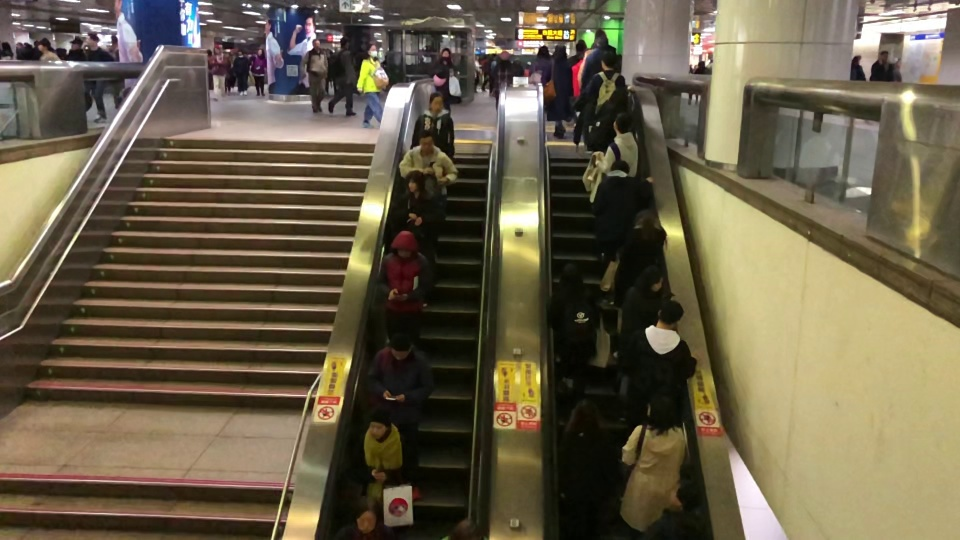person_head: (565, 398, 599, 432), (644, 391, 675, 428), (667, 477, 703, 508), (364, 405, 391, 439), (655, 298, 684, 327), (354, 495, 377, 530), (390, 229, 418, 256), (450, 517, 482, 540), (386, 331, 412, 359), (641, 266, 665, 292), (558, 263, 583, 286), (405, 169, 427, 195), (611, 111, 633, 133), (632, 208, 654, 229), (417, 129, 435, 154), (609, 157, 631, 176), (608, 84, 627, 105), (429, 91, 444, 111), (600, 51, 615, 71), (85, 32, 99, 47), (554, 45, 567, 60), (366, 42, 378, 58), (69, 36, 83, 48), (440, 47, 451, 62), (38, 40, 51, 52), (339, 34, 350, 48), (596, 36, 608, 48), (497, 50, 510, 61), (537, 45, 549, 56), (1, 40, 11, 52), (879, 50, 887, 64), (576, 41, 585, 53), (851, 54, 861, 64), (311, 38, 320, 48), (111, 34, 117, 48), (213, 44, 221, 54), (257, 48, 264, 56), (237, 48, 244, 56), (698, 59, 705, 67), (709, 54, 713, 61)
person_vbox: (366, 330, 434, 505), (618, 391, 686, 533), (591, 158, 653, 307), (547, 263, 598, 439), (559, 397, 623, 536), (611, 207, 667, 362), (397, 129, 458, 262), (614, 266, 665, 421), (626, 298, 698, 399), (349, 404, 415, 513), (392, 170, 444, 308), (376, 228, 433, 344), (645, 476, 703, 540), (585, 84, 635, 151), (410, 91, 455, 160), (356, 42, 390, 129), (594, 112, 638, 177), (543, 44, 573, 138), (583, 51, 628, 113), (85, 32, 114, 125), (327, 34, 358, 116), (299, 38, 328, 113), (580, 36, 616, 86), (432, 47, 459, 105), (105, 34, 125, 109), (490, 48, 514, 110), (209, 42, 229, 102), (527, 45, 551, 82), (232, 47, 249, 97), (869, 49, 893, 83), (251, 48, 266, 97), (692, 59, 707, 105), (65, 35, 88, 63), (38, 39, 58, 61), (849, 55, 865, 80), (707, 53, 713, 72)
